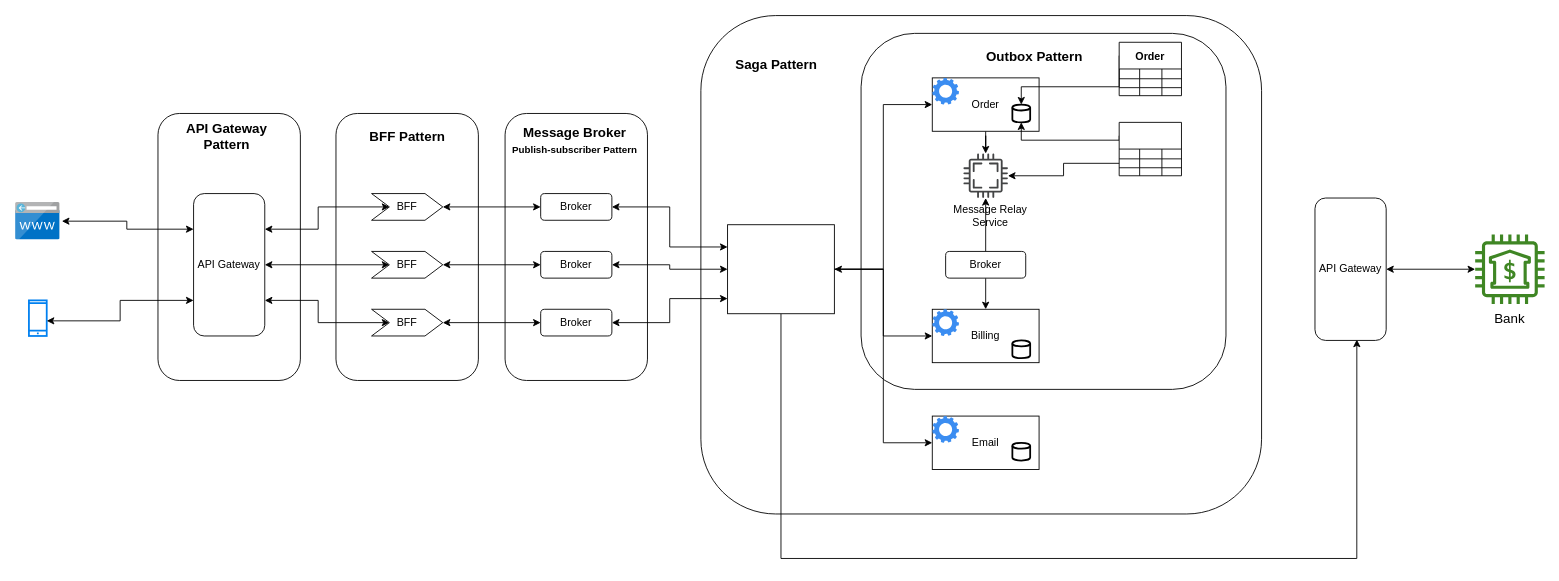
Some shapes in this 1559 by 581 pixel diagram are drawn without their labels. Each missing label, with the centre of its shape:
"Orchestrator" belongs at (x=780, y=269).
"Outbox" belongs at (x=1149, y=148).
